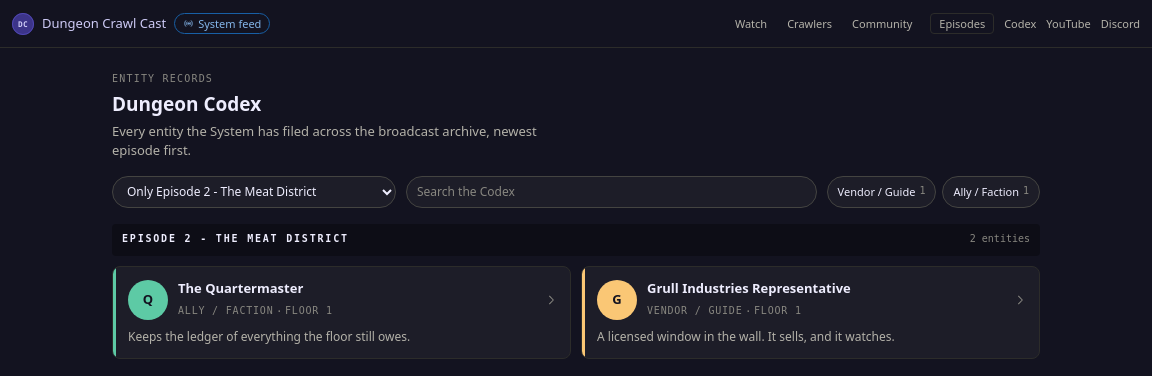
it: scoping the Registry by episode › says the Registry has no such entity when a scope and a search agree
Expected: the element with test id "registry-entry" that starts with "The Quartermaster" is shown, [112,266,571,359]
In the search field with test id "registry-search": (611, 192) [406,176,817,208], type "Crate"
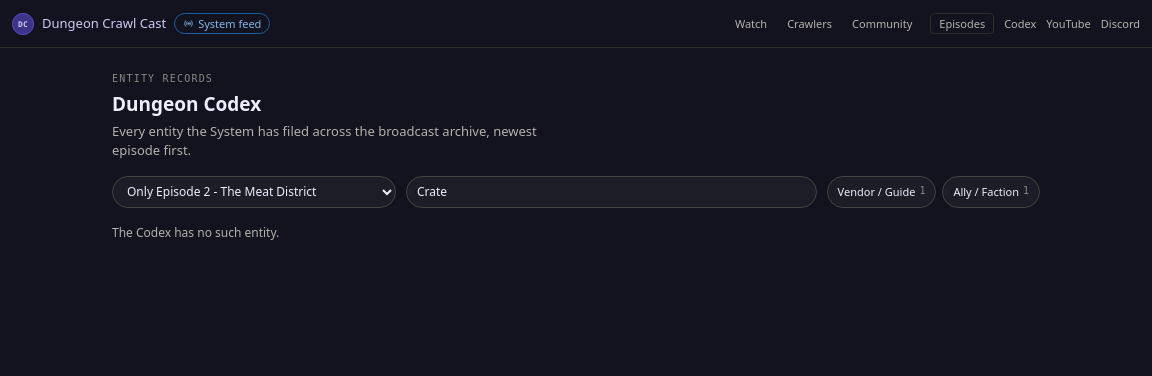
Expected: the dropdown with test id "registry-scope" shows "Only Episode 2 - The Meat District", [112,176,396,208]
Expected: no elements with test id "registry-entry" are shown
Expected: the text with test id "registry-empty" reads "The Codex has no such entity.", [112,224,279,241]
